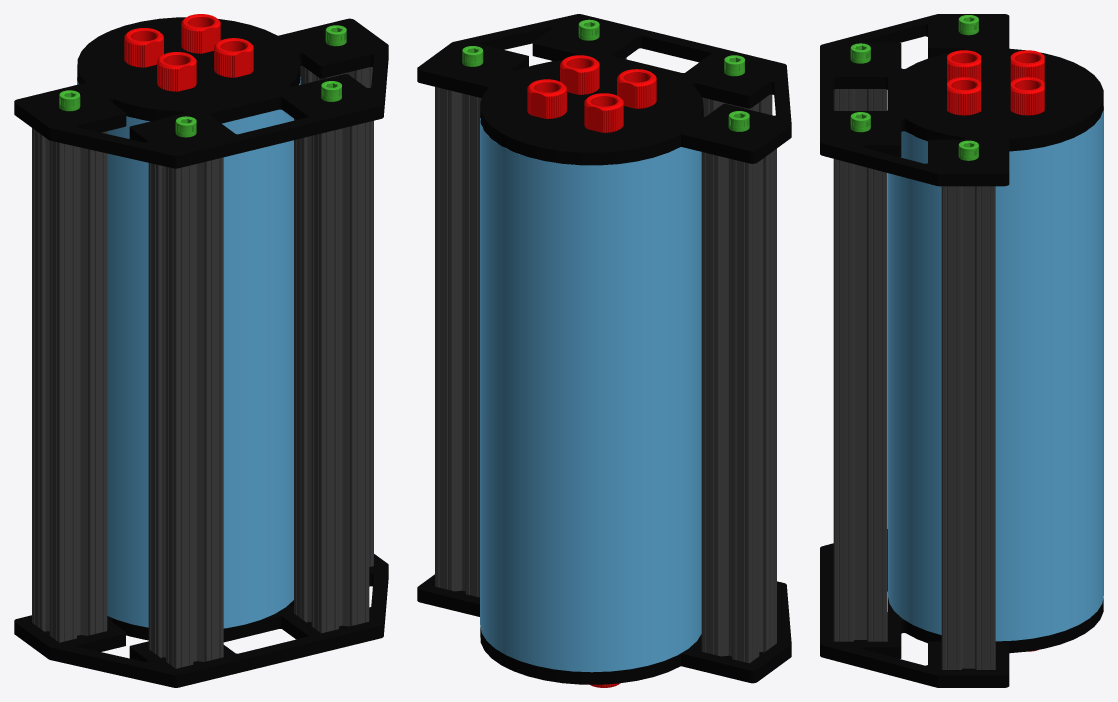
Rendered from dirtybubble.glb.
The picture shows the model from 3 angles, left to right: view 1: azimuth 30°, elevation 25°; view 2: azimuth 150°, elevation 25°; view 3: azimuth 270°, elevation 25°; orthographic projection. The views are drawn at different scales.
Visible parts, largest first — view 1: NAUO1, NAUO9, NAUO8, NAUO4, NAUO3, NAUO2, NAUO7, NAUO23, NAUO21, NAUO24, NAUO25; view 2: NAUO1, NAUO4, NAUO3, NAUO7, NAUO2, NAUO24, NAUO25, NAUO21, NAUO23, NAUO9; view 3: NAUO1, NAUO3, NAUO7, NAUO8, NAUO2, NAUO24, NAUO23, NAUO9, NAUO25, NAUO21.
Boxes of the visible parts, box(x1,y1,x2,y2) form: NAUO1: box(77, 77, 300, 628); NAUO9: box(148, 157, 223, 668); NAUO8: box(294, 119, 369, 633); NAUO4: box(32, 128, 107, 642); NAUO3: box(14, 17, 388, 168); NAUO2: box(14, 554, 388, 687); NAUO7: box(300, 65, 373, 566); NAUO23: box(214, 38, 253, 77); NAUO21: box(157, 52, 196, 91); NAUO24: box(181, 14, 220, 53); NAUO25: box(124, 28, 163, 67); NAUO1: box(480, 118, 701, 672); NAUO4: box(701, 148, 776, 663); NAUO3: box(417, 14, 791, 165); NAUO7: box(435, 87, 481, 597); NAUO2: box(417, 574, 791, 684); NAUO24: box(527, 79, 566, 118); NAUO25: box(584, 93, 623, 132); NAUO21: box(617, 69, 656, 108); NAUO23: box(560, 55, 599, 94); NAUO9: box(702, 94, 772, 116); NAUO1: box(888, 106, 1103, 641); NAUO3: box(820, 14, 1103, 186); NAUO7: box(941, 186, 995, 669); NAUO8: box(833, 159, 887, 641); NAUO2: box(820, 529, 1103, 687); NAUO24: box(1010, 77, 1044, 115); NAUO23: box(947, 77, 980, 115); NAUO9: box(833, 89, 887, 110); NAUO25: box(1010, 50, 1044, 81); NAUO21: box(947, 50, 980, 82).
Size of the model in its own units: 0.1781 by 0.2907 by 0.1335.
